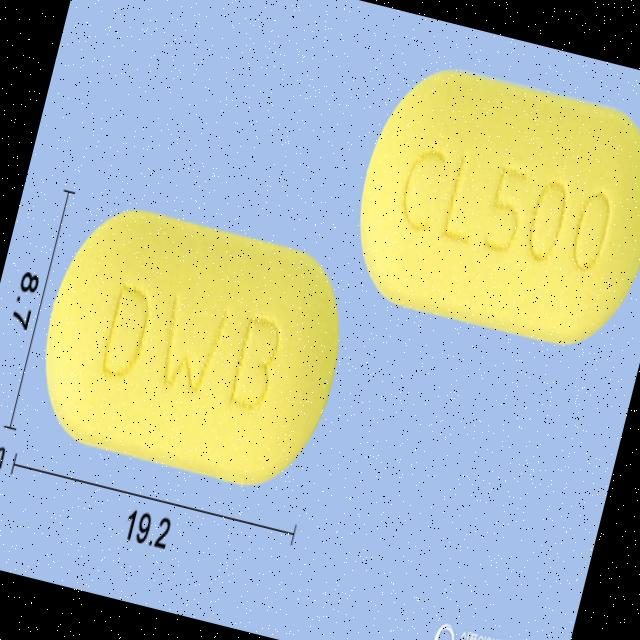Daewoong Bio Clarithromycin: (20, 188, 365, 504), (337, 54, 640, 360)
